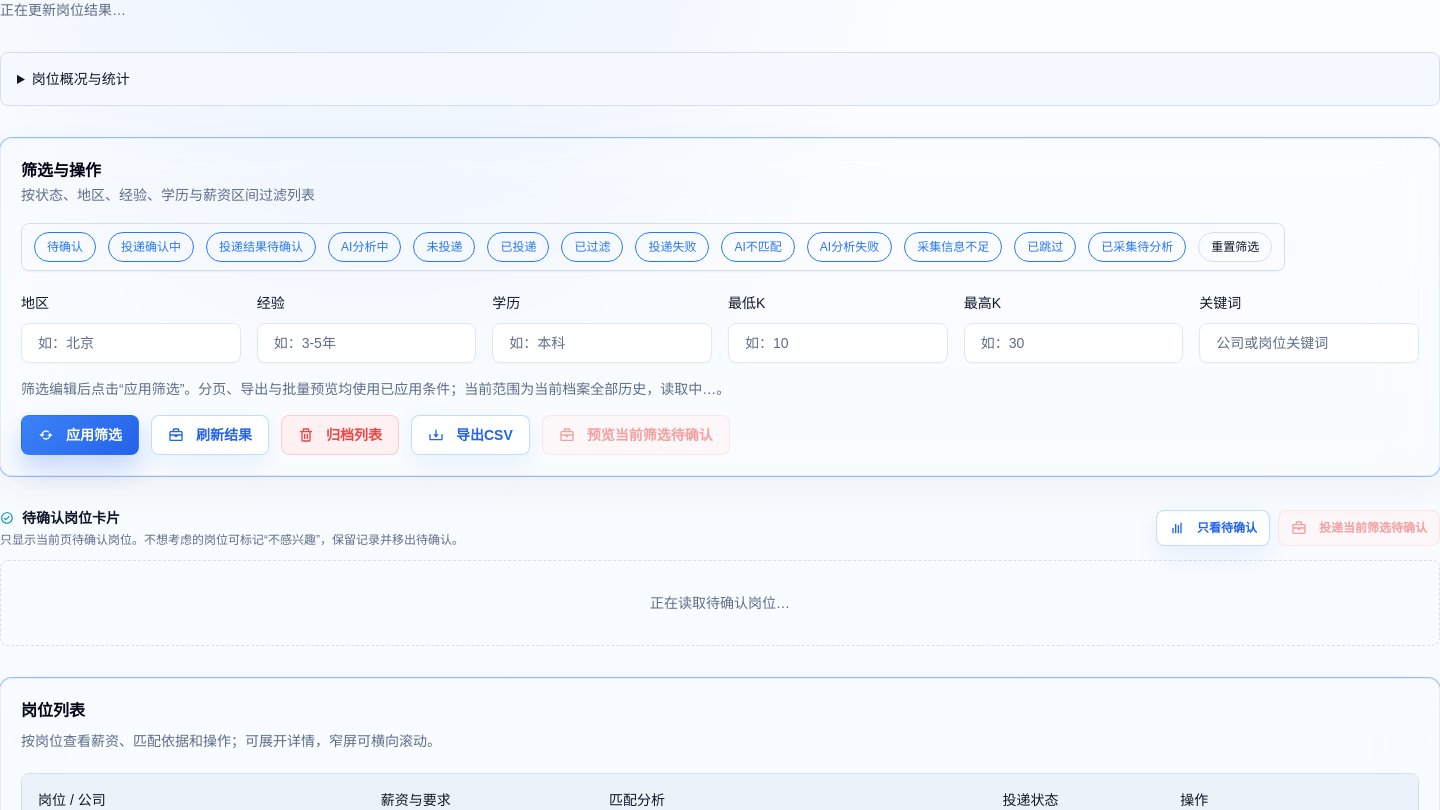
it: 较早筛选请求的迟到响应不会覆盖新结果
The image size is (1440, 810).
Type "新" into the field with placeholder "公司或岗位关键词" at (1309, 343), box [1199,323,1419,363]
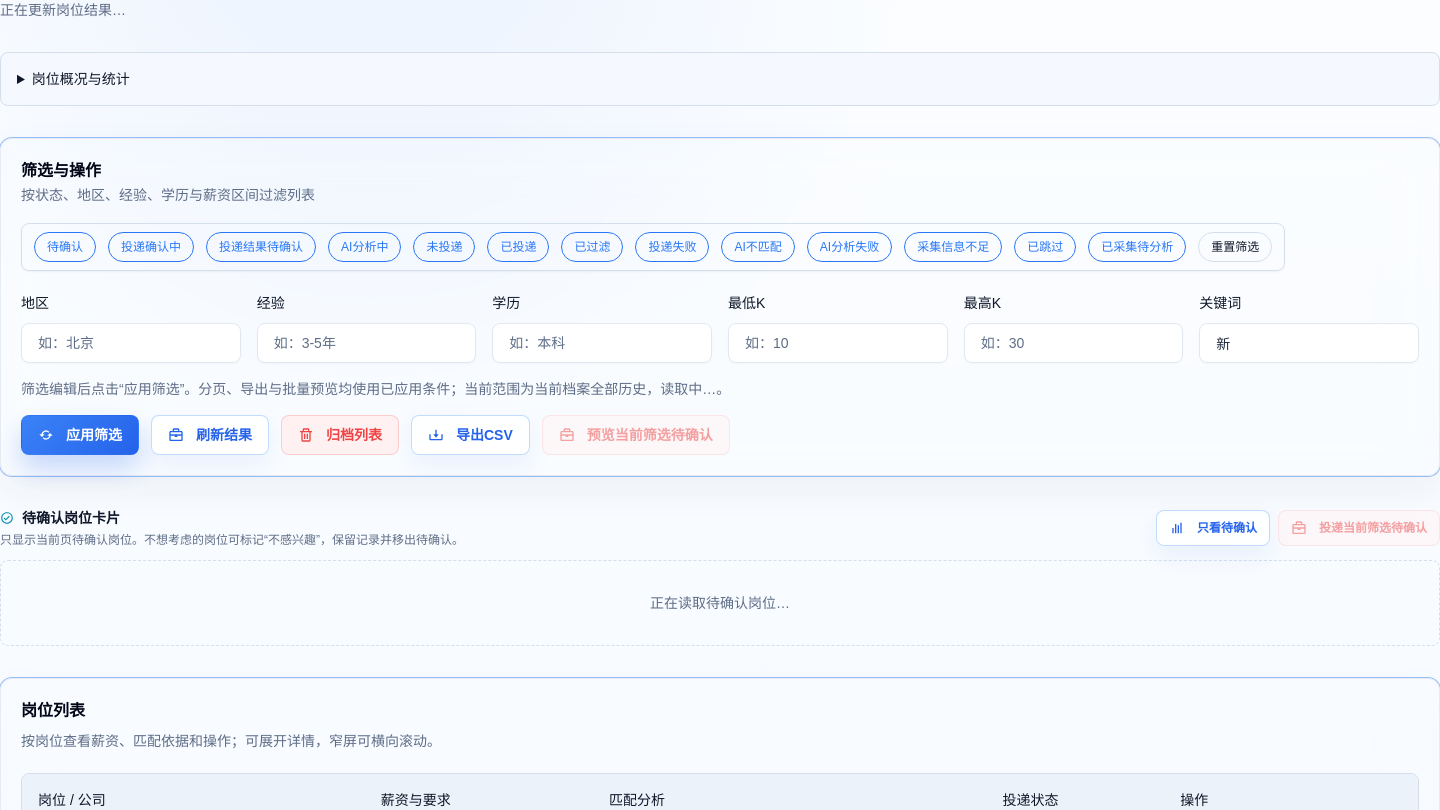
Click the button "应用筛选" at (80, 435), box [21,415,139,455]
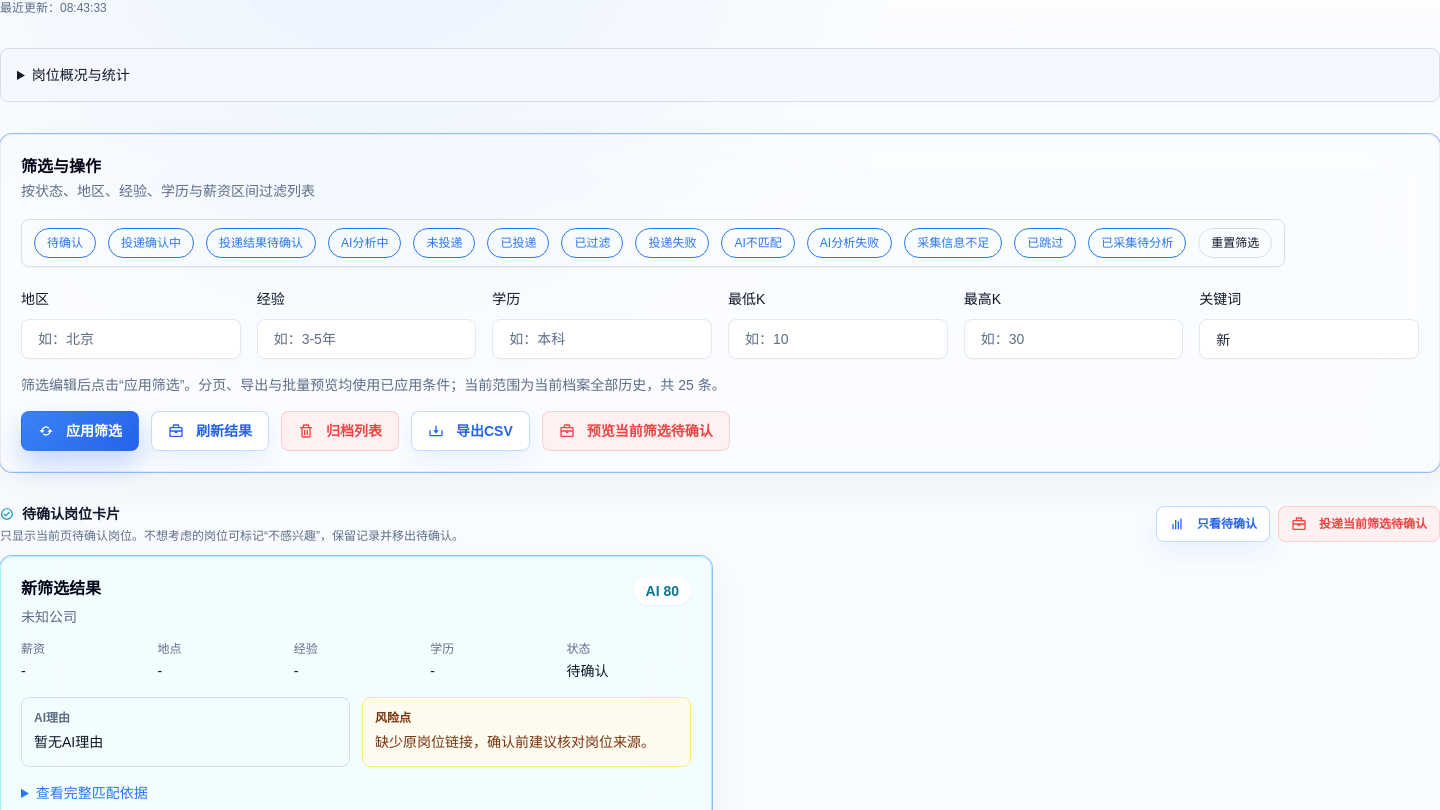
Check: the text "新筛选结果" is shown, box [21,577,101,601]
